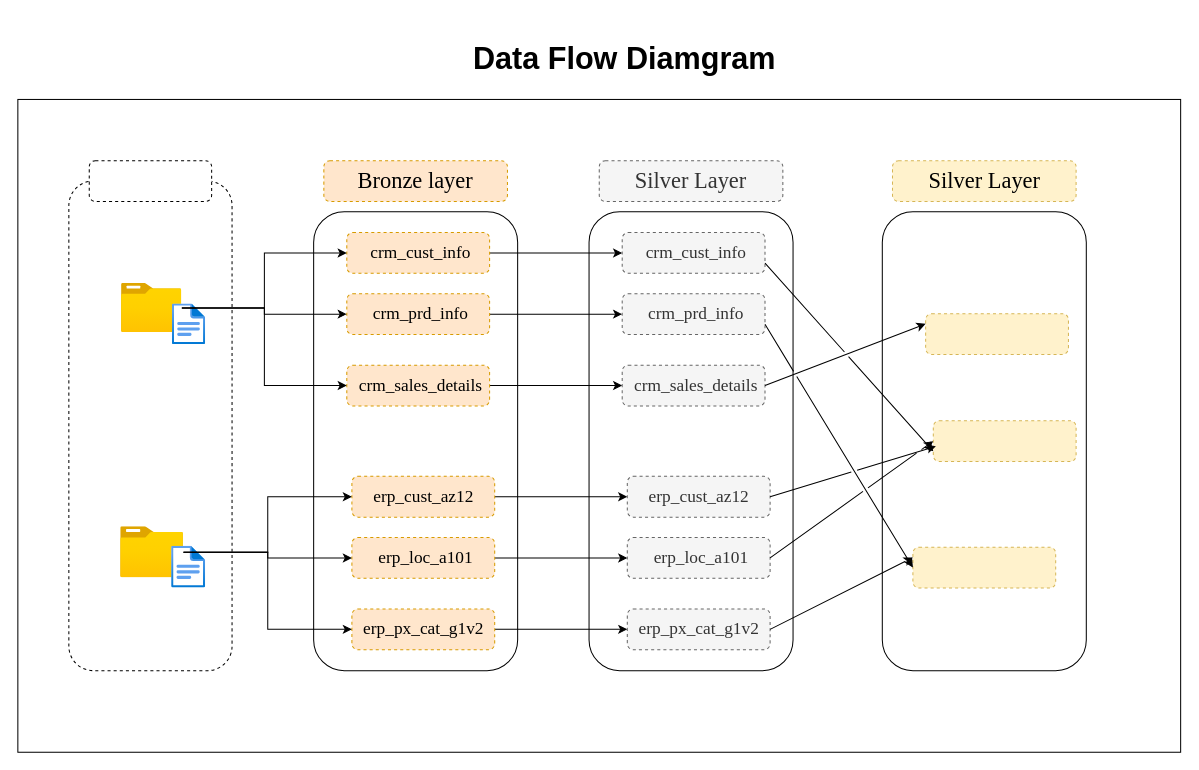
The diagram is 1199 pixels wide and 770 high, and some of its shapes have lost their labels. Here are the shapes that lost their labels. From the top down, the box of each, then its label:
(88, 160, 212, 201): sources
(121, 283, 181, 332): CRM
(925, 313, 1068, 354): fact_sales
(932, 420, 1076, 462): dim_customers
(120, 526, 183, 577): ERP
(912, 546, 1056, 588): dim_products
